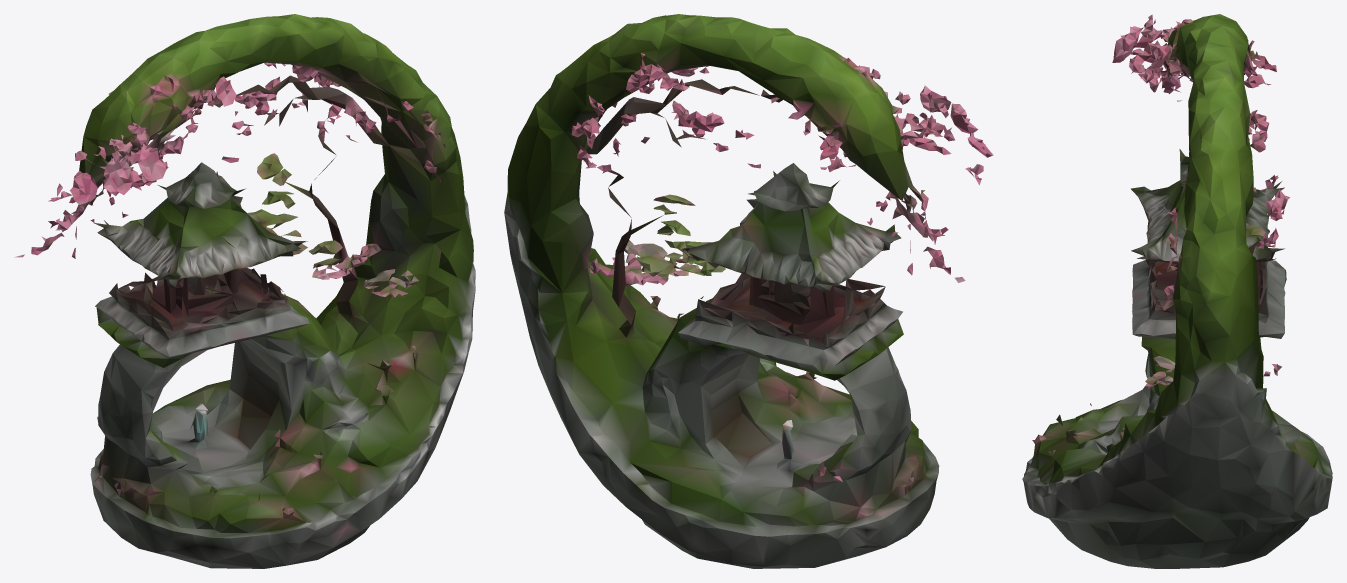
The model's file is bq_moongate.vc.glb.
3 renders of one model, left to right at view 1: azimuth 30°, elevation 25°; view 2: azimuth 150°, elevation 25°; view 3: azimuth 270°, elevation 25°, orthographic. The views are drawn at different scales.
Visible parts, largest first — view 1: bq_moongate; view 2: bq_moongate; view 3: bq_moongate.
Boxes of the visible parts, x1,y1,x2,y2 form: bq_moongate: (14,14,475,568); bq_moongate: (504,14,993,568); bq_moongate: (1022,14,1332,568).
Size of the model in its own units: 1.83 by 1.9 by 1.11.
